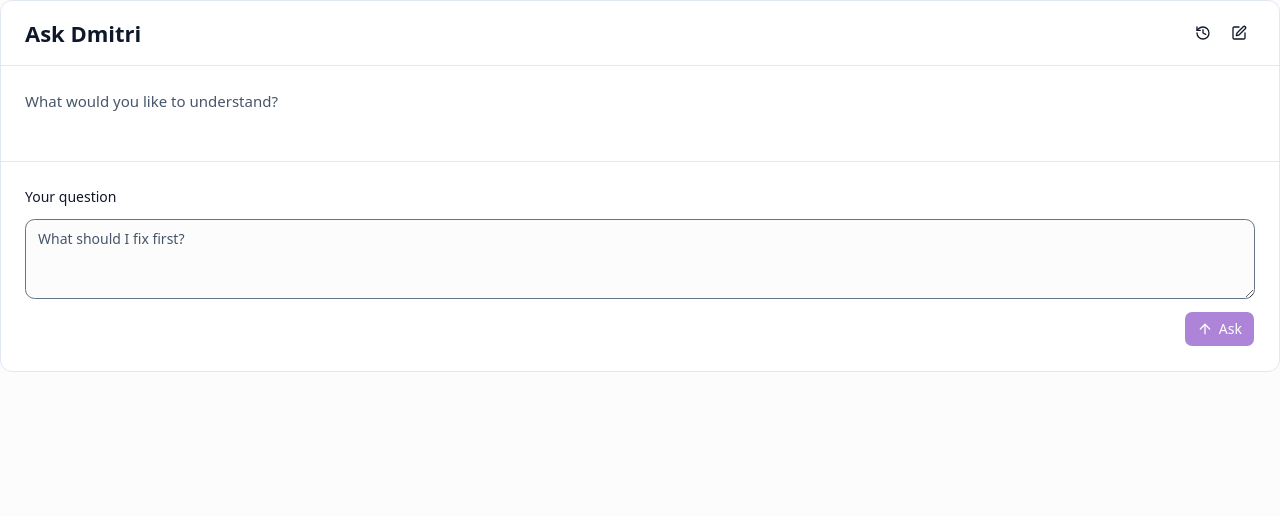
Test: ContextChat waiting › shows the waiting state while asking and Cancel stops it without a toast
This screenshot has width=1280, height=516.
Type "What is wrong?" into the text box labelled "Your question" at (640,258), box left=25, top=218, right=1255, bottom=298
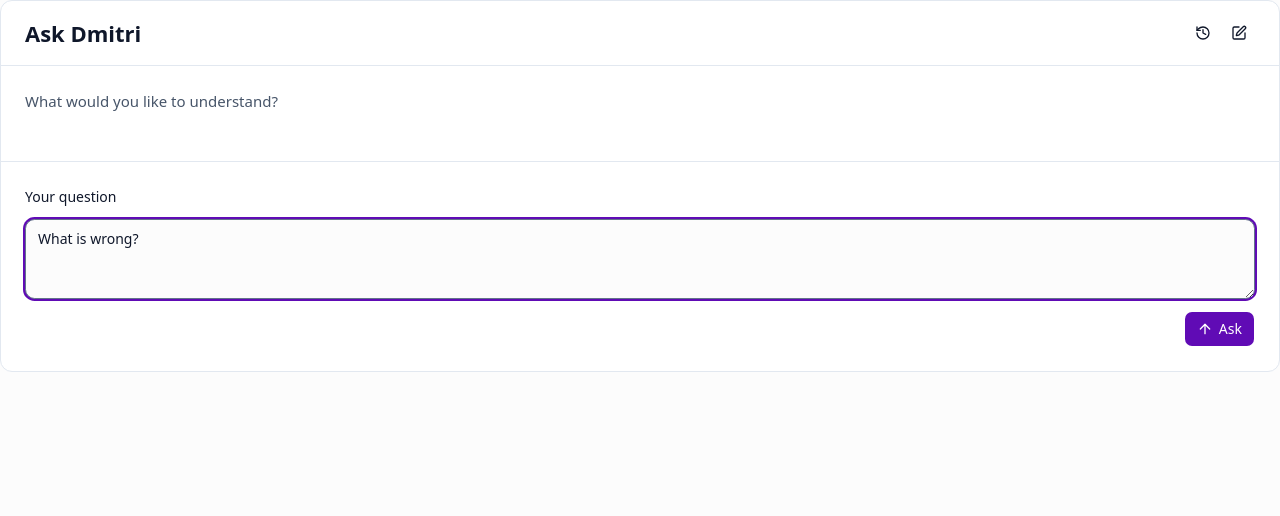
Click the button "Ask" at (1219,328), box left=1184, top=310, right=1255, bottom=346
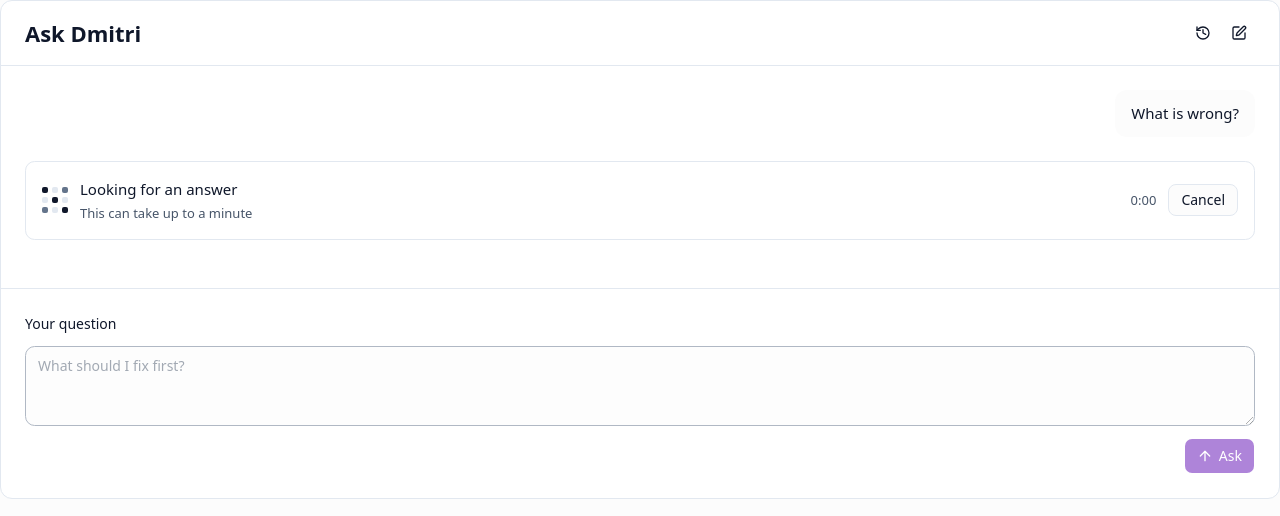
Now the element with test id "assistant-waiting" shows "Looking for an answer", box left=80, top=178, right=238, bottom=198
Now the text box labelled "Your question" is disabled, box left=25, top=346, right=1255, bottom=426
Click the button with test id "assistant-cancel" at (1203,200), box left=1168, top=184, right=1238, bottom=216
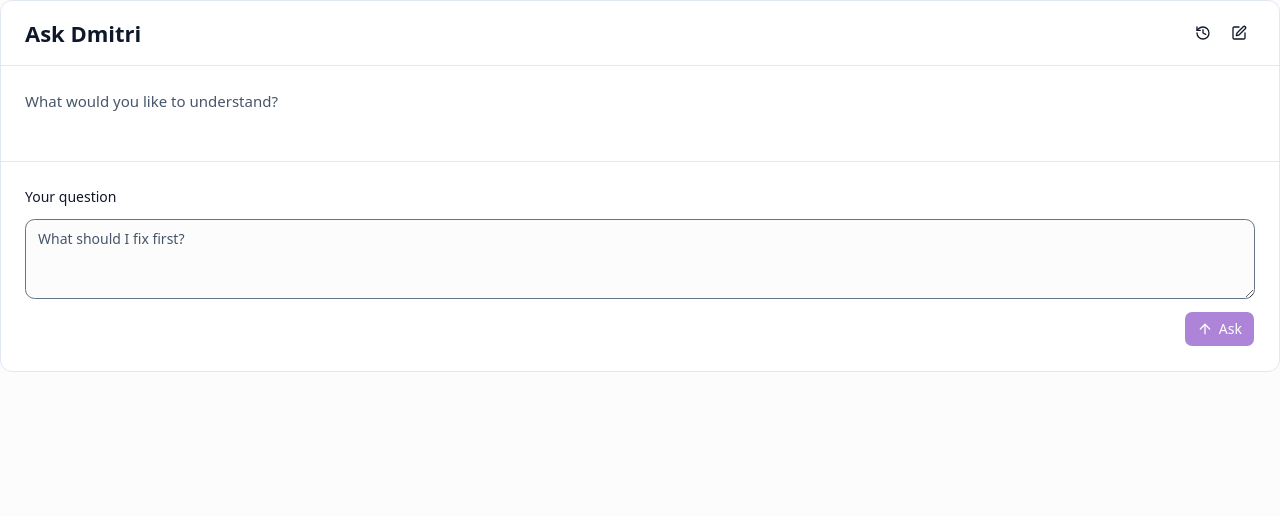
Now the element with test id "assistant-waiting" is gone
Now the text box labelled "Your question" is enabled, box left=25, top=218, right=1255, bottom=298
